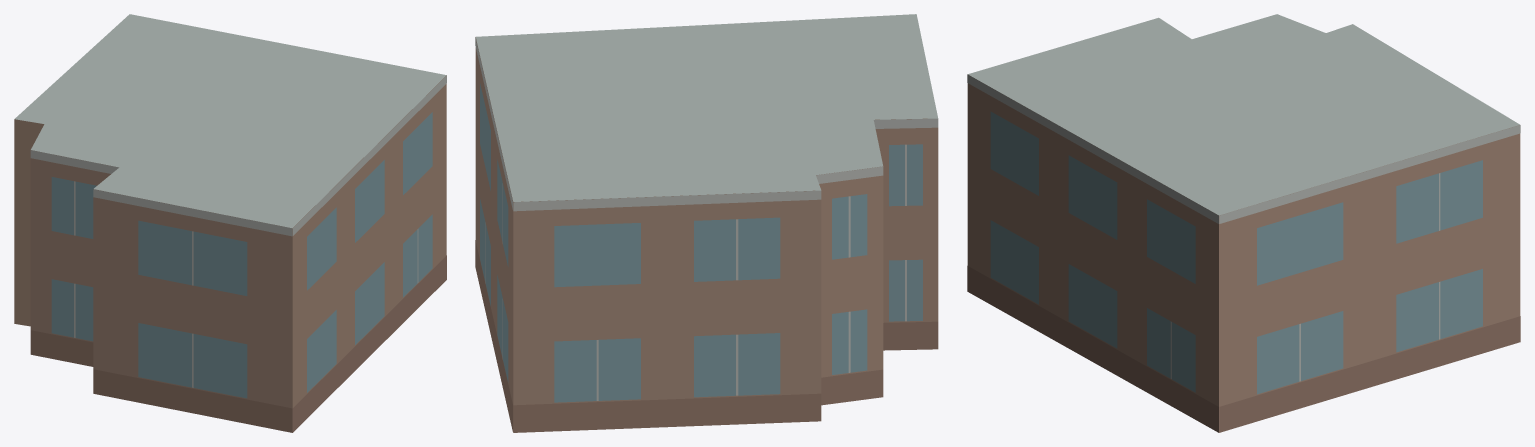
Rendered from survey-upis-32604254.glb.
The picture shows the model from 3 angles, left to right: view 1: azimuth 30°, elevation 25°; view 2: azimuth 150°, elevation 25°; view 3: azimuth 270°, elevation 25°; orthographic projection. The views are drawn at different scales.
Visible parts, largest first — view 1: survey-upis-32604254.tmp; view 2: survey-upis-32604254.tmp; view 3: survey-upis-32604254.tmp.
Part boxes in pixels (x1,y1,x2,y2): survey-upis-32604254.tmp: (14, 14, 446, 432); survey-upis-32604254.tmp: (475, 14, 938, 432); survey-upis-32604254.tmp: (967, 14, 1520, 432).
Size of the model in its own units: 12.14 by 6.1 by 14.07.
